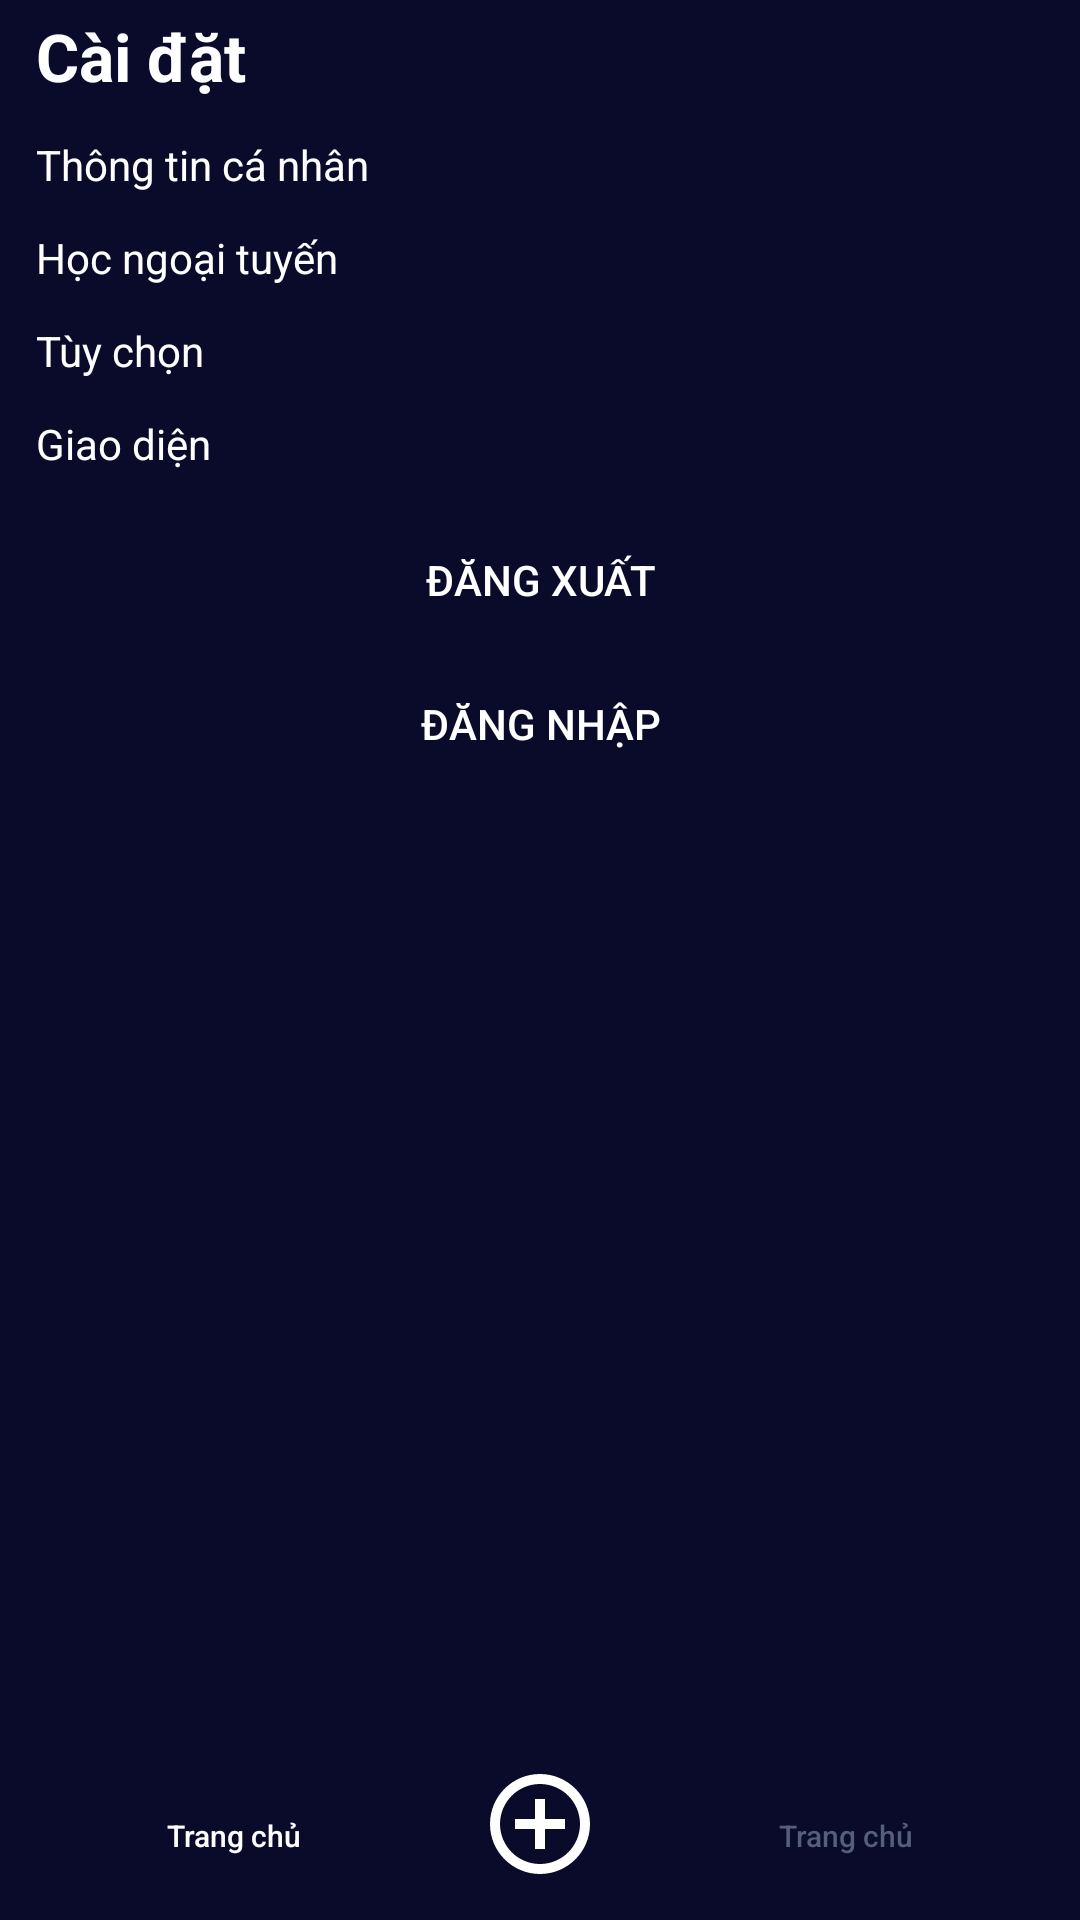

Locate icon controls on the screen. Image size 1080*1920, boxes as (x1, y1, x2, y2).
add circle: (490, 1774, 590, 1874)
